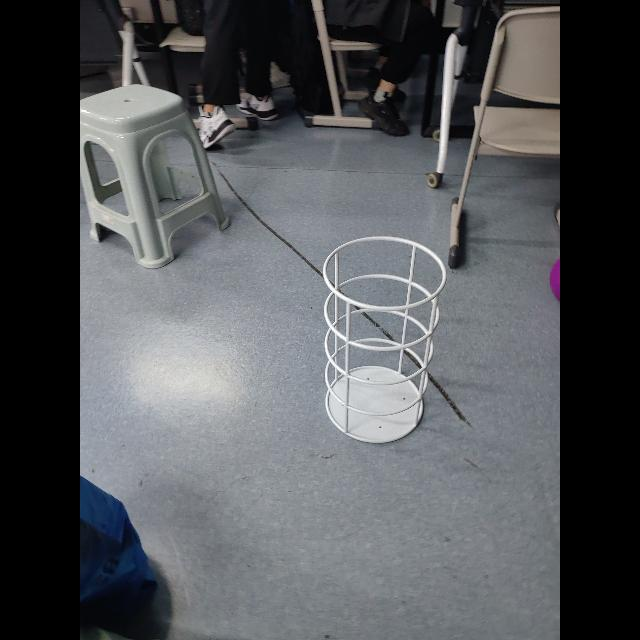S: (316, 232, 448, 446)
